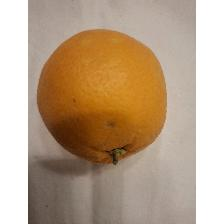Orange: (35, 27, 169, 167)
